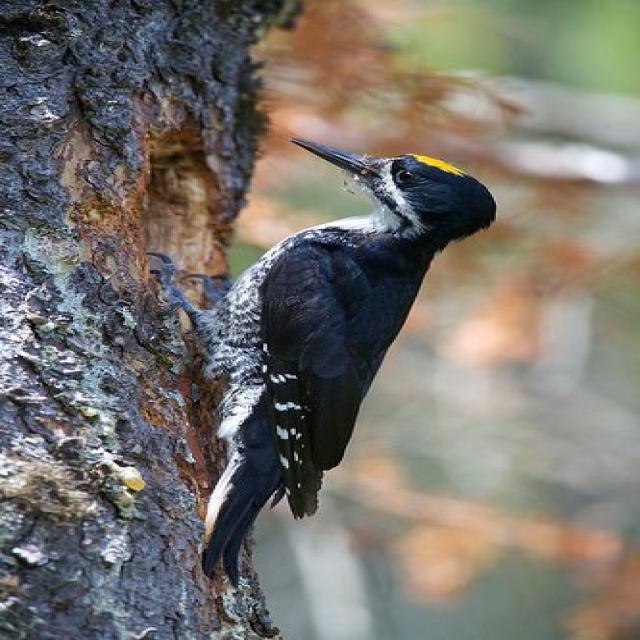woodpecker: (140, 138, 494, 580)
